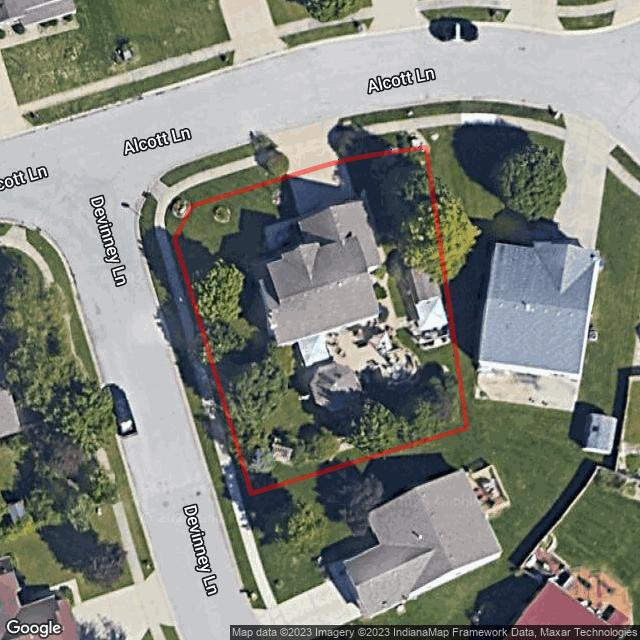Driveway: (285, 163, 357, 220)
Extra Driveway: (266, 119, 340, 175)
Extra Lawn: (139, 192, 231, 505), (165, 210, 250, 498), (166, 156, 288, 214), (160, 138, 279, 187), (330, 105, 424, 135), (332, 130, 413, 159), (417, 128, 427, 140)
Extra Sidewalk: (150, 148, 285, 501)
House: (262, 201, 380, 344)
Other: (298, 299, 424, 390), (403, 267, 452, 352), (310, 362, 361, 411), (269, 439, 300, 464), (171, 199, 190, 218)
Sidewalk: (356, 193, 417, 340), (330, 117, 428, 147)
